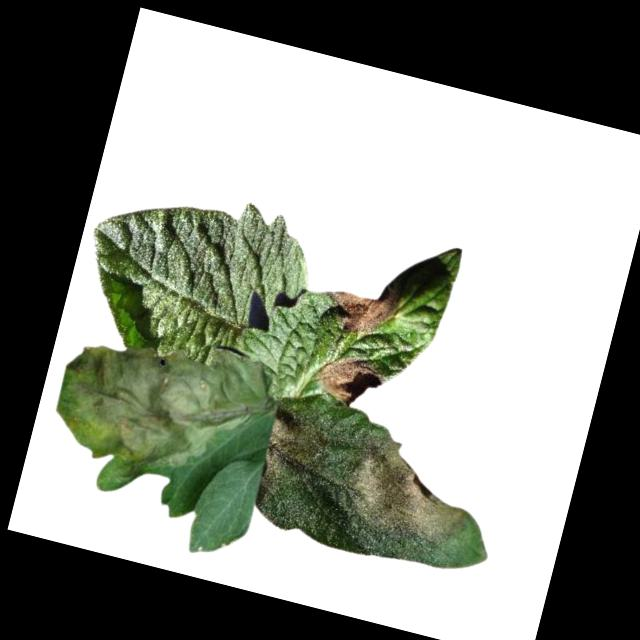Late_blight: (38, 316, 274, 523), (331, 427, 484, 576), (251, 404, 334, 524), (319, 269, 406, 344), (308, 343, 392, 414)
